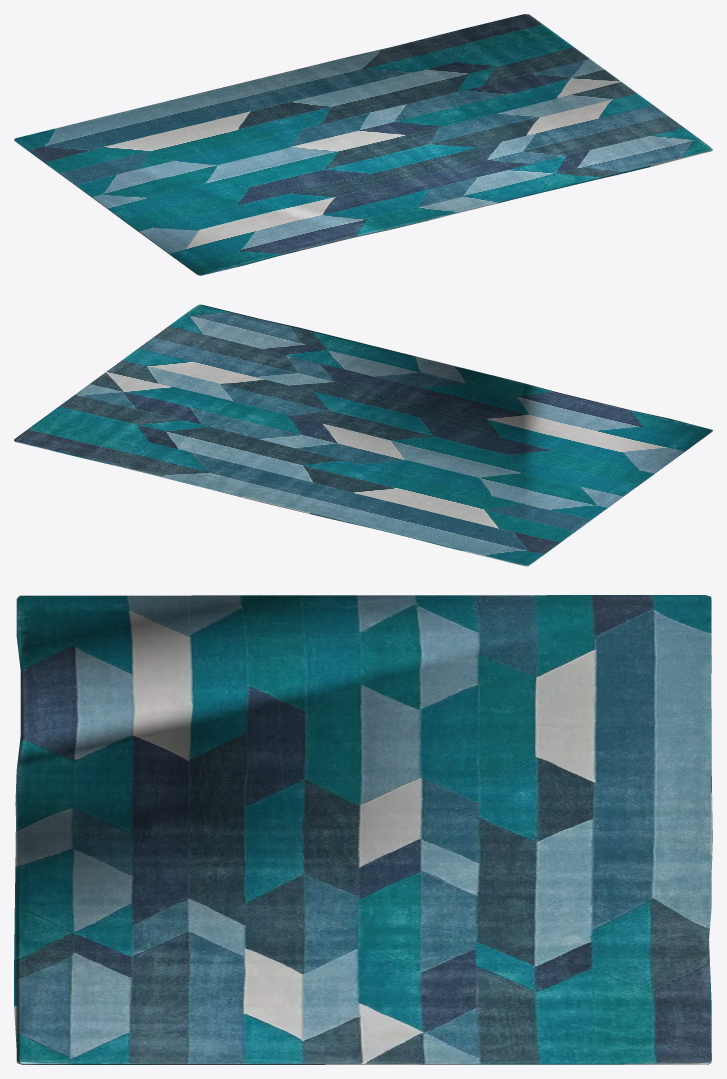
The model's file is abo-B071ZJ3X28.glb.
3 views of the same model, one above another, from view 1: azimuth 30°, elevation 25°; view 2: azimuth 150°, elevation 25°; view 3: azimuth 270°, elevation 25° (orthographic). The views are drawn at different scales.
Visible parts, largest first — view 1: RootNode; view 2: RootNode; view 3: RootNode.
Part boxes in pixels (x1=…): RootNode: x1=14, y1=14, x2=712, y2=275; RootNode: x1=14, y1=304, x2=712, y2=566; RootNode: x1=14, y1=595, x2=712, y2=1064.
Size of the model in its own units: 2.42 by 0.00502 by 1.53.
Materials: 1 (1 with a texture image).
